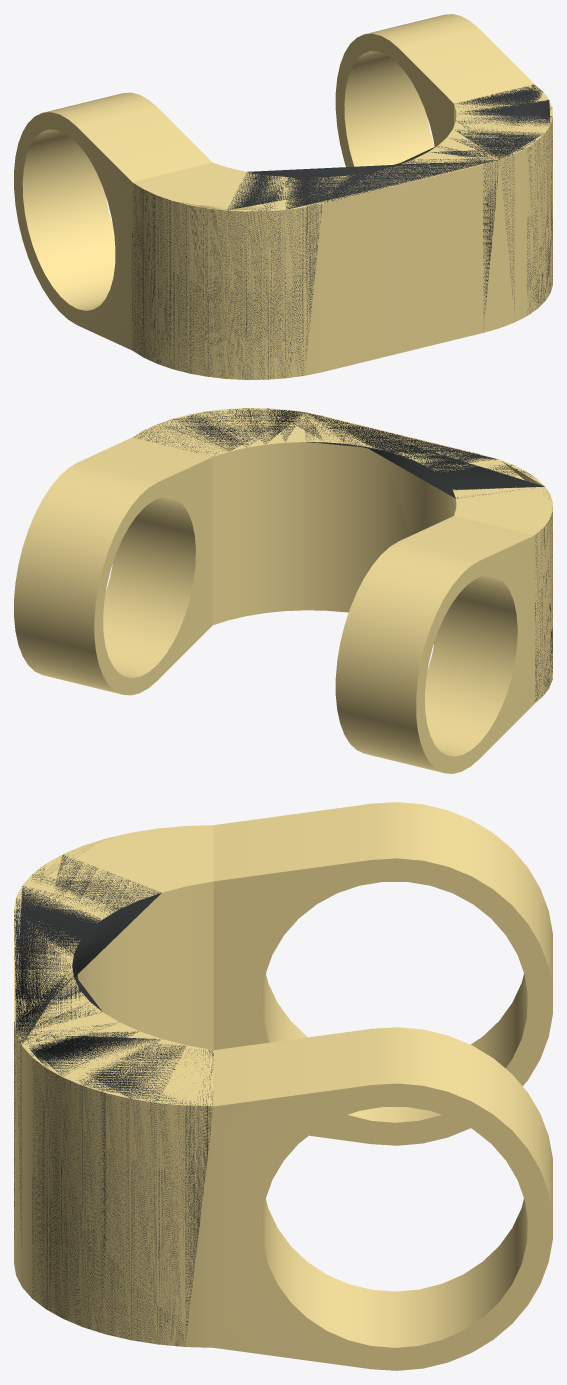
Rendered from rleg_link2.dae.
3 views of the same model, one above another, from view 1: azimuth 30°, elevation 25°; view 2: azimuth 150°, elevation 25°; view 3: azimuth 270°, elevation 25° (orthographic). The views are drawn at different scales.
Visible parts, largest first — view 1: node0, node1, node2; view 2: node0, node1, node2; view 3: node0, node1, node2.
Boxes of the visible parts, x1,y1,x2,y2 form: node0: (14,14,552,379); node1: (132,84,552,379); node2: (179,202,303,363); node0: (14,408,552,773); node1: (134,408,552,701); node2: (382,457,551,643); node0: (14,802,552,1370); node1: (14,855,213,1346); node2: (19,834,123,1016).
Size of the model in its own units: 0.05 by 0.0238 by 0.0405.
